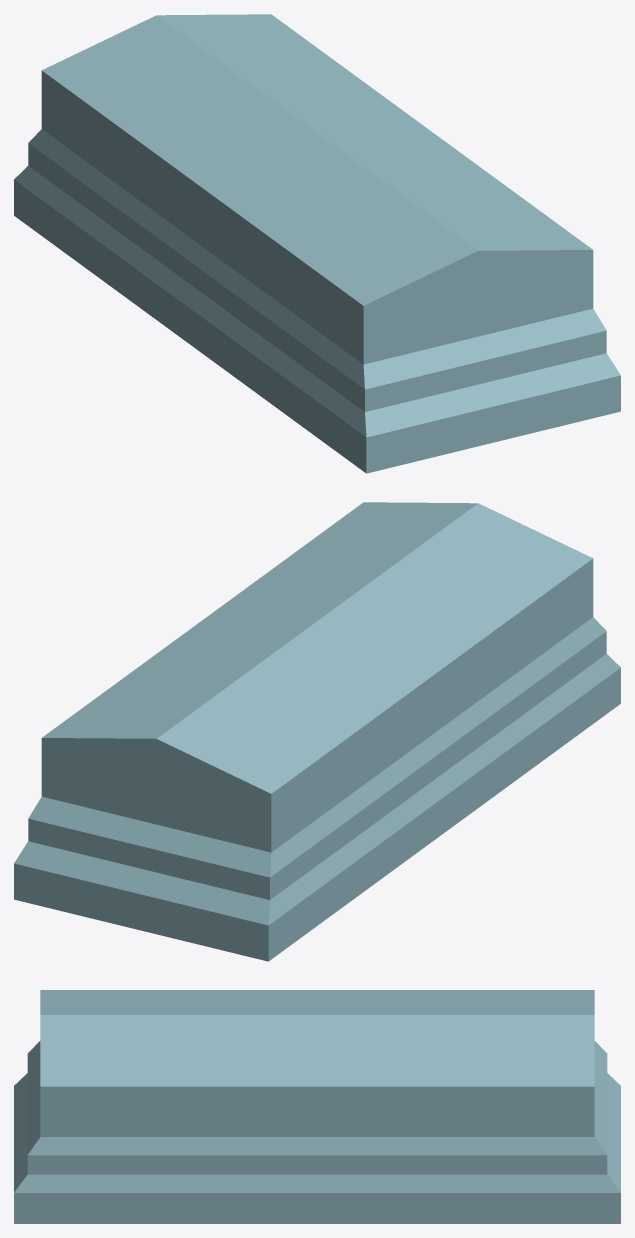
File: gravestoneFlat.obj
3 views of the same model, one above another, from view 1: azimuth 30°, elevation 25°; view 2: azimuth 150°, elevation 25°; view 3: azimuth 270°, elevation 25° (orthographic). The views are drawn at different scales.
Visible parts, largest first — view 1: gravestoneFlat; view 2: gravestoneFlat; view 3: gravestoneFlat.
Part boxes in pixels (x1,y1,x2,y2): gravestoneFlat: [14, 14, 620, 473]; gravestoneFlat: [14, 502, 620, 961]; gravestoneFlat: [14, 990, 620, 1223].
Size of the model in its own units: 0.472 by 0.32 by 1.13.
